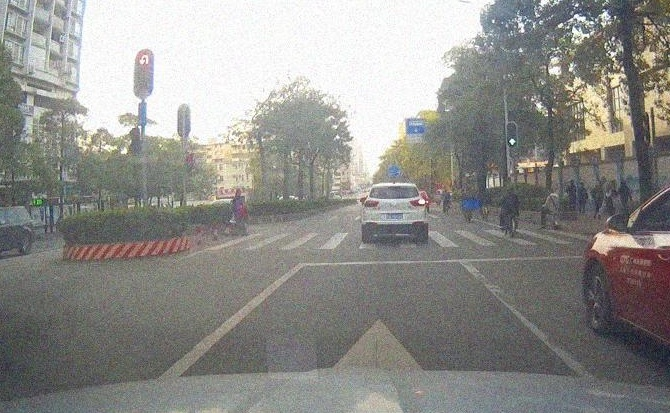L_light: (365, 200, 378, 207)
R_light: (410, 199, 426, 206)
T_light: (392, 187, 400, 189)
day-right: (362, 183, 428, 242)
